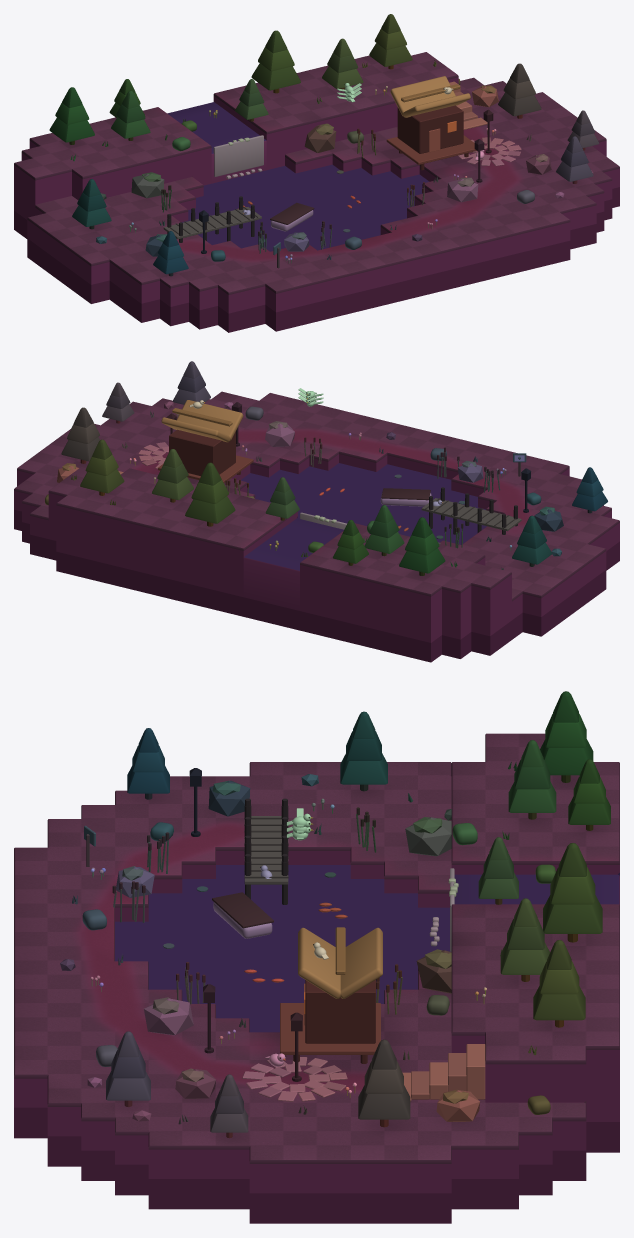
File: river_2.glb
3 views of the same model, one above another, from view 1: azimuth 30°, elevation 25°; view 2: azimuth 150°, elevation 25°; view 3: azimuth 270°, elevation 25° (orthographic). The views are drawn at different scales.
Visible parts, largest first — view 1: Terrain.001, Trees, Props, Buildings, Greenery; view 2: Terrain.001, Trees, Props, Buildings, Greenery; view 3: Terrain.001, Trees, Props, Buildings, Greenery.
Boxes of the visible parts, x1=… form: Terrain.001: x1=14, y1=52, x2=619, y2=332; Trees: x1=49, y1=14, x2=599, y2=276; Props: x1=96, y1=81, x2=593, y2=268; Buildings: x1=270, y1=76, x2=476, y2=231; Greenery: x1=70, y1=60, x2=534, y2=263; Terrain.001: x1=14, y1=391, x2=619, y2=662; Trees: x1=61, y1=361, x2=607, y2=575; Props: x1=57, y1=388, x2=563, y2=556; Buildings: x1=158, y1=400, x2=431, y2=506; Greenery: x1=45, y1=406, x2=541, y2=569; Terrain.001: x1=14, y1=733, x2=619, y2=1223; Trees: x1=106, y1=691, x2=610, y2=1138; Props: x1=60, y1=768, x2=485, y2=1121; Buildings: x1=212, y1=892, x2=382, y2=1063; Greenery: x1=72, y1=762, x2=555, y2=1124.
Size of the model in its own units: 28 by 7.32 by 18.
41 materials, 1 textured.
